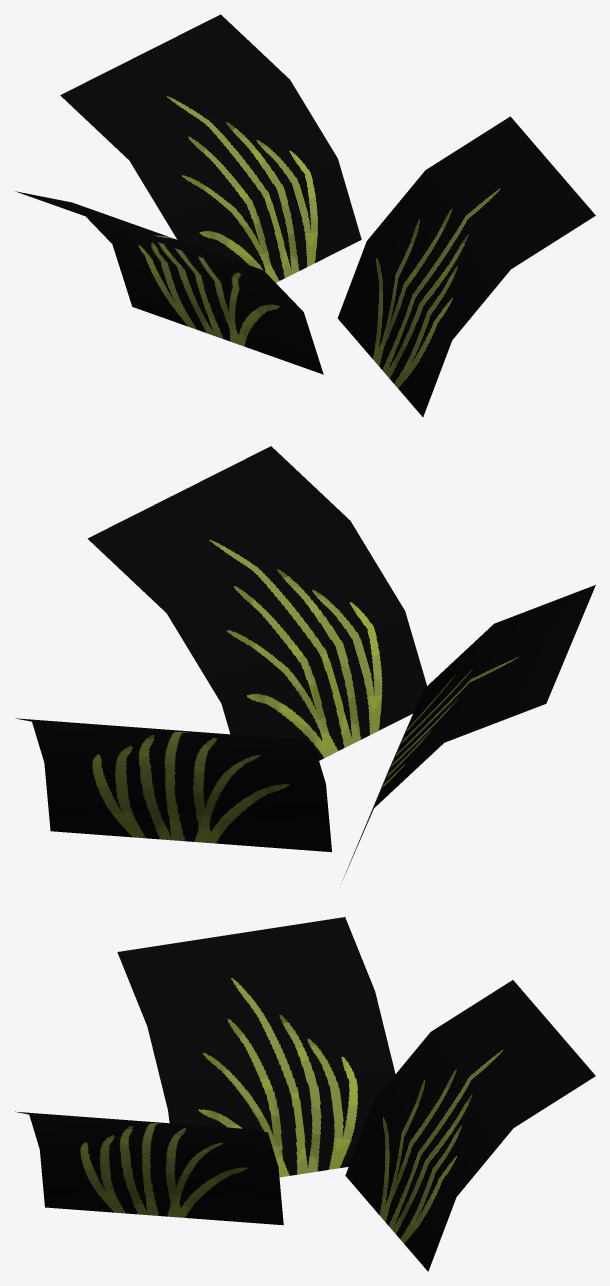
Rendered from Grass 10_preview_3DS_simplified.glb.
3 views of the same model, one above another, from view 1: azimuth 30°, elevation 25°; view 2: azimuth 150°, elevation 25°; view 3: azimuth 270°, elevation 25° (orthographic). The views are drawn at different scales.
Parts seen in each view (by area): view 1: Marine Park Empire model; view 2: Marine Park Empire model; view 3: Marine Park Empire model.
Part boxes in pixels (x1=…): Marine Park Empire model: x1=15, y1=14, x2=595, y2=416; Marine Park Empire model: x1=15, y1=446, x2=595, y2=880; Marine Park Empire model: x1=15, y1=917, x2=595, y2=1271.
Size of the model in its own units: 75.95 by 28.36 by 87.92.
1 material, 1 textured.
